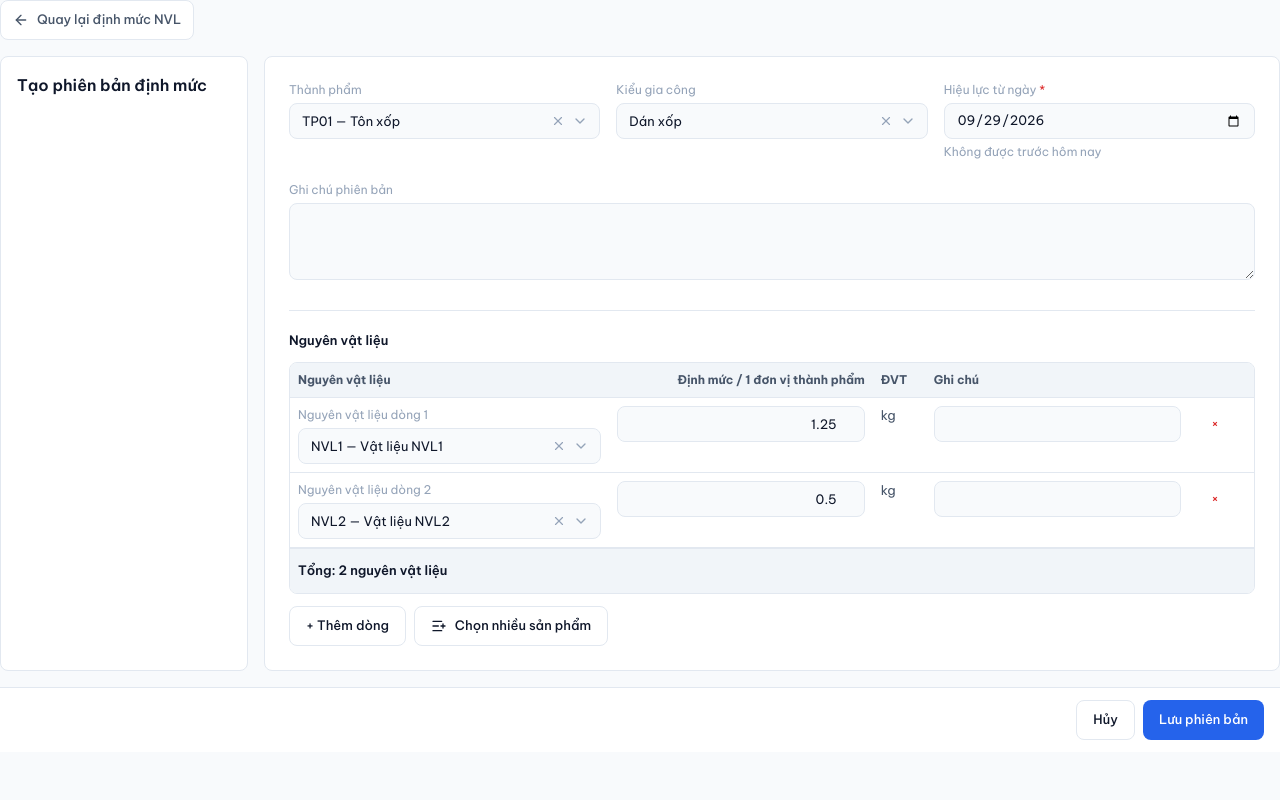
BomNewForm (/production/bom/new) › định mức 0 → báo lỗi tại ô, không POST
The width and height of the screenshot is (1280, 800).
Replace the text in the number field named "Định mức dòng 1" with "0" at (741, 424), box [617,406,865,442]
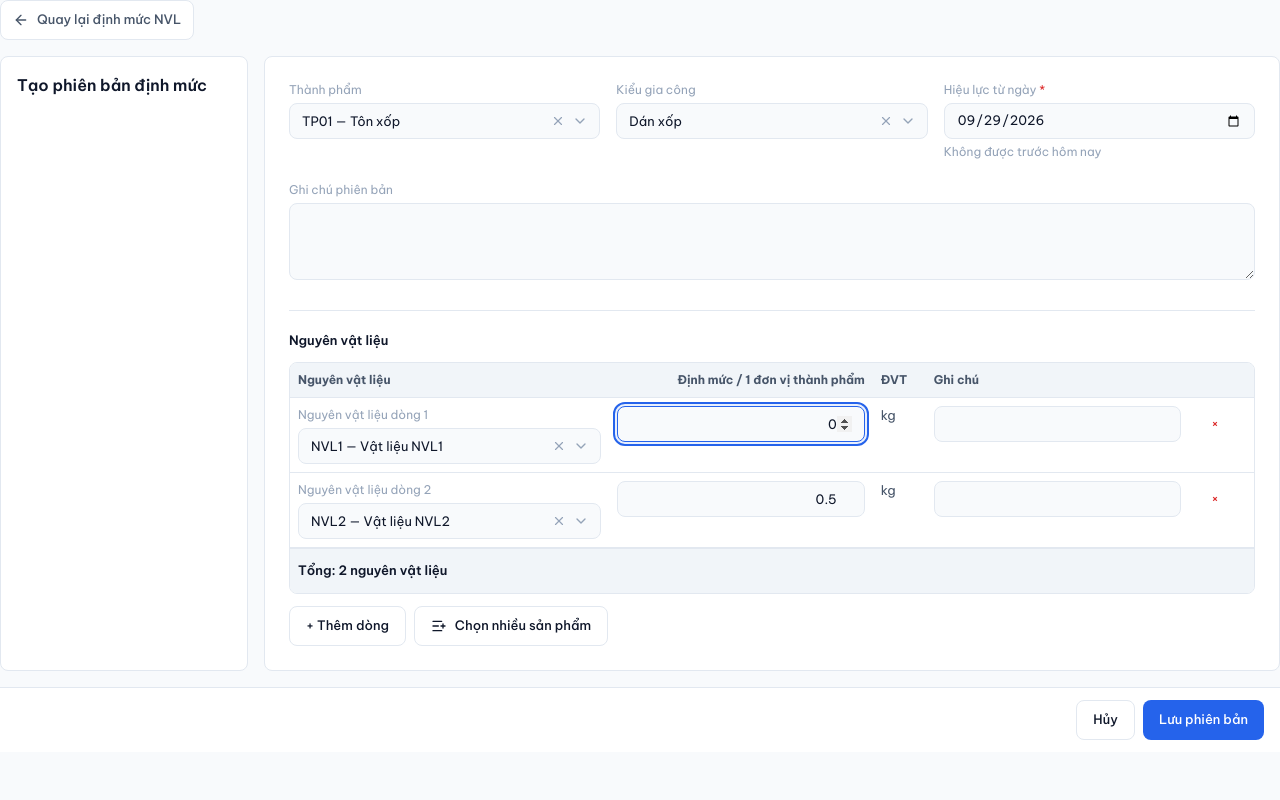
Click the button "Lưu phiên bản" at (1203, 720), box [1143,700,1264,740]
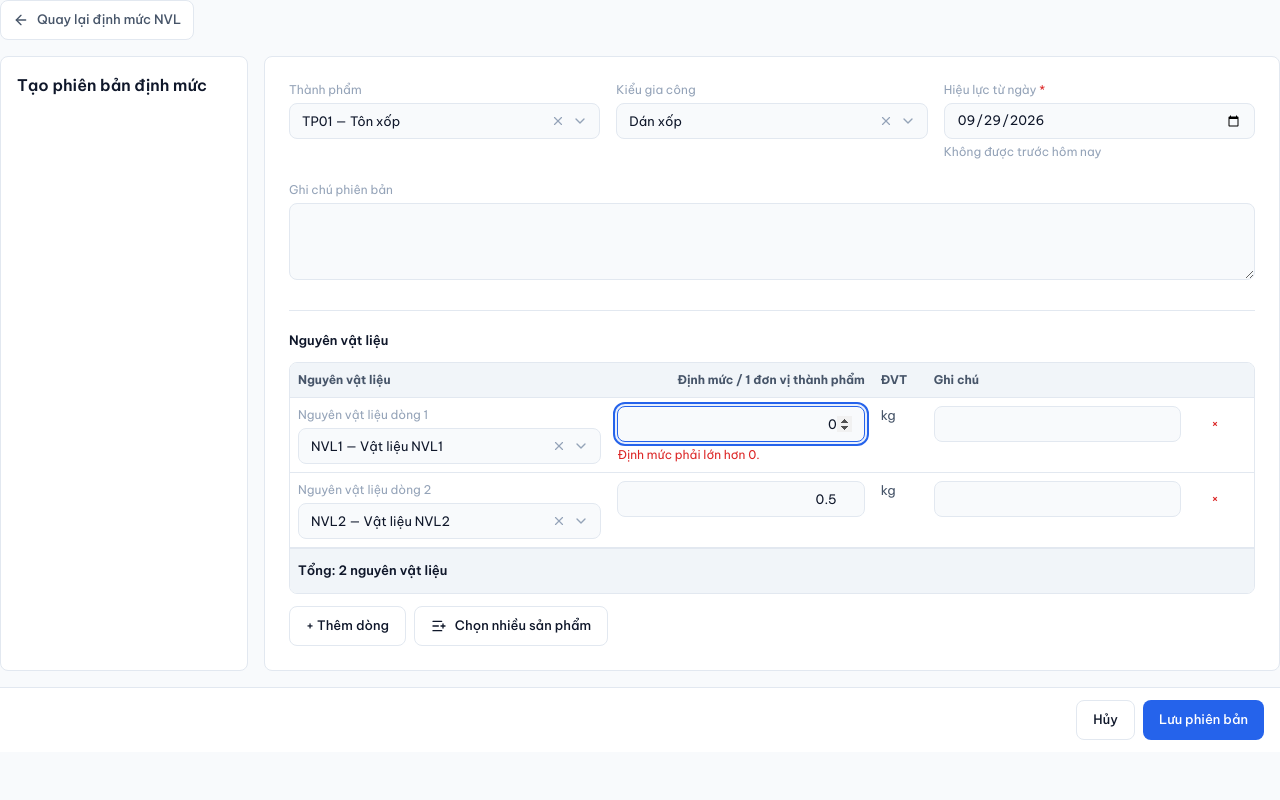
Now the text "Định mức phải lớn hơn 0." is shown, box [617,447,760,462]
